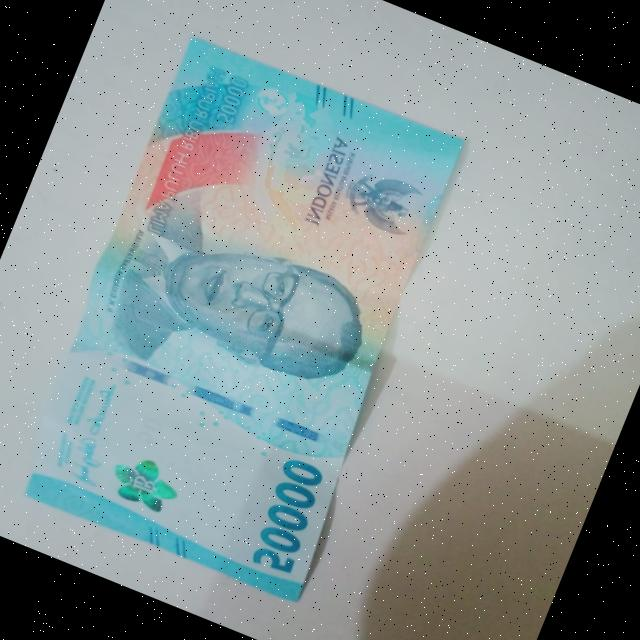50K: (0, 12, 497, 614)
